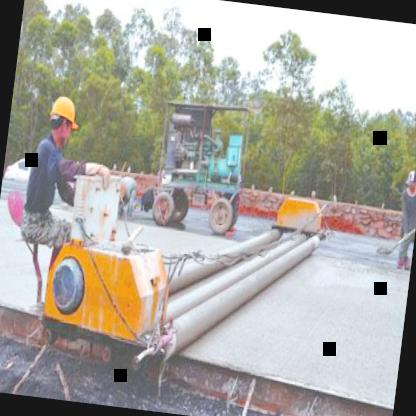helmet: (44, 88, 81, 150)
